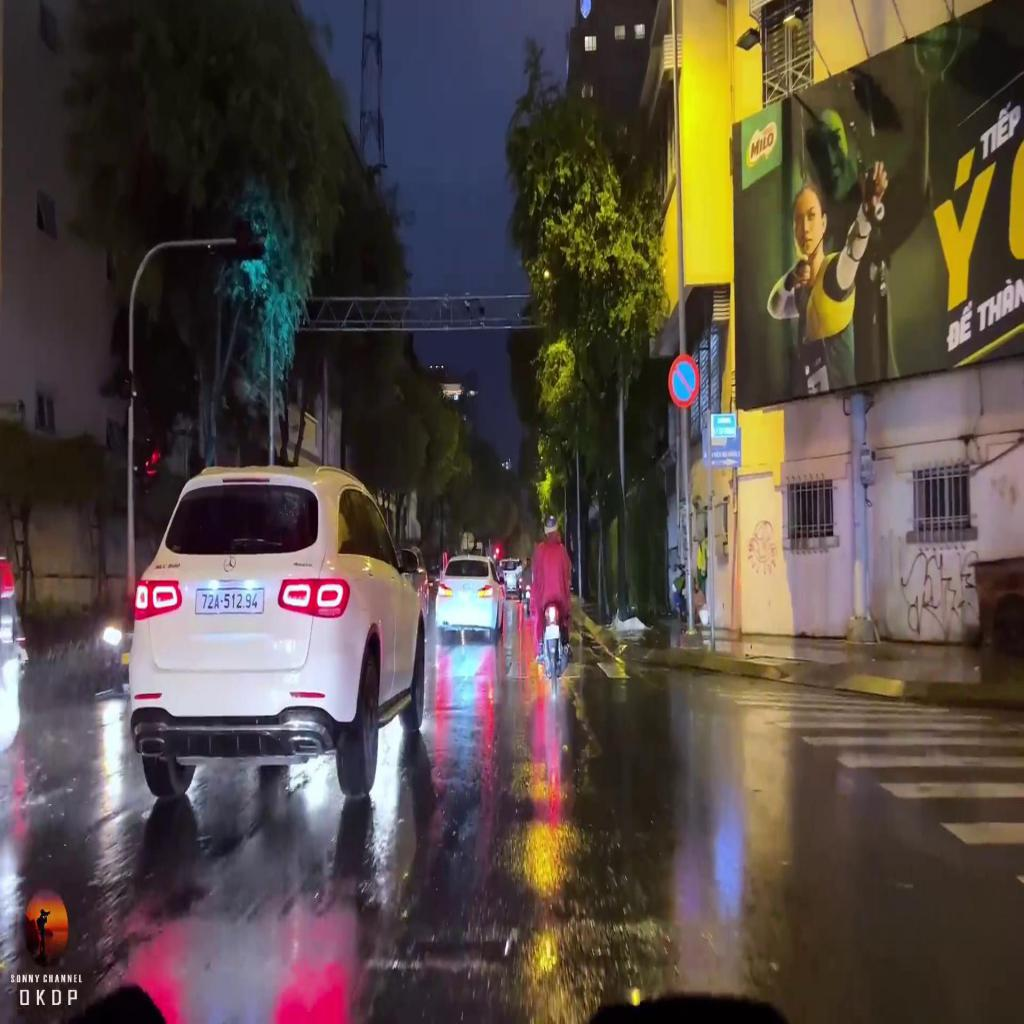cam_do_xe: (668, 352, 700, 410)
